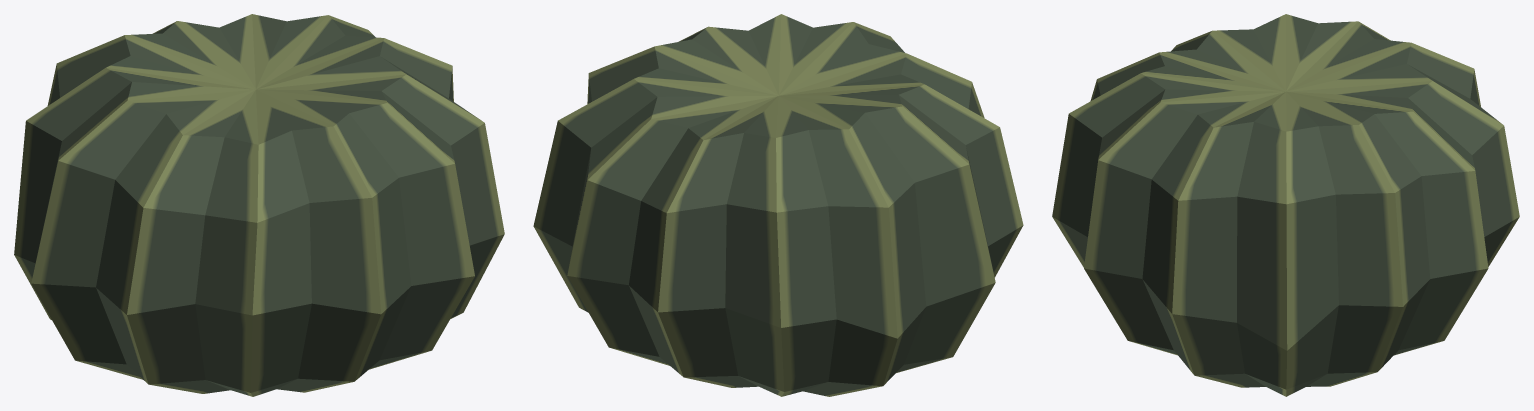
File: SM_Env_Cactus_02.fbx
The picture shows the model from 3 angles, left to right: view 1: azimuth 30°, elevation 25°; view 2: azimuth 150°, elevation 25°; view 3: azimuth 270°, elevation 25°; orthographic projection. The views are drawn at different scales.
Parts seen in each view (by area): view 1: SM_Env_Cactus_02; view 2: SM_Env_Cactus_02; view 3: SM_Env_Cactus_02.
Part boxes in pixels (x1=…): SM_Env_Cactus_02: x1=14, y1=14, x2=504, y2=396; SM_Env_Cactus_02: x1=533, y1=14, x2=1023, y2=396; SM_Env_Cactus_02: x1=1052, y1=14, x2=1519, y2=396.
Bounding box in the file's own units: 56.52 × 38.19 × 57.14.
